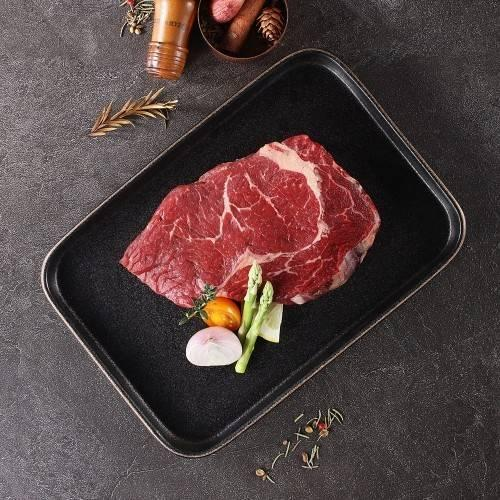beef: (94, 105, 300, 246)
